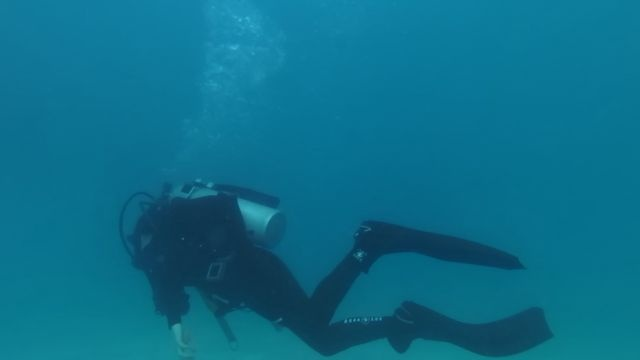Hand: (156, 312, 202, 356)
